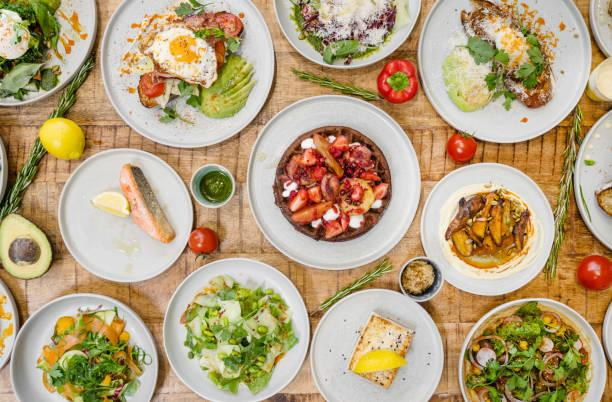Braised Crucian Carp: (248, 93, 417, 267), (99, 1, 269, 150), (418, 0, 589, 144), (163, 257, 308, 402), (421, 162, 556, 294), (57, 148, 188, 281), (10, 292, 159, 400), (456, 297, 605, 401), (309, 288, 445, 400)
